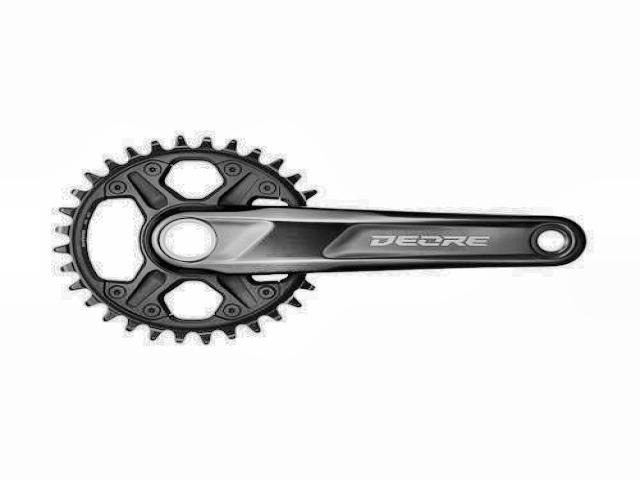cranks_set: (51, 135, 592, 346)
